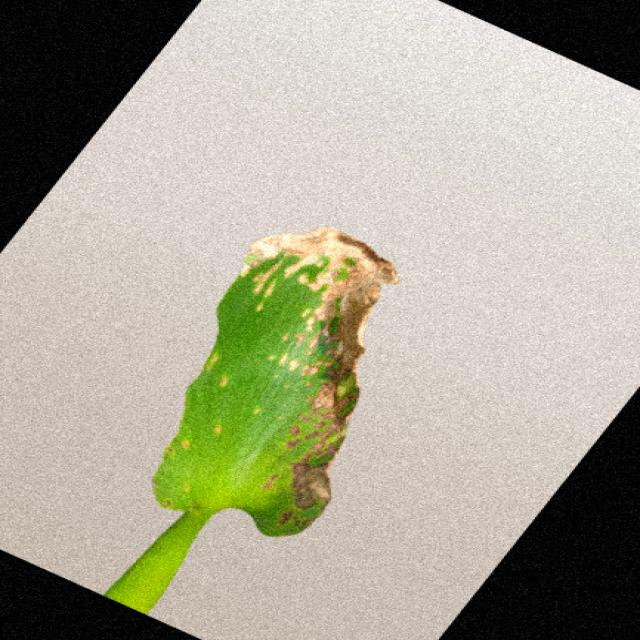daun berpenyakit bercak: (107, 229, 398, 612)
